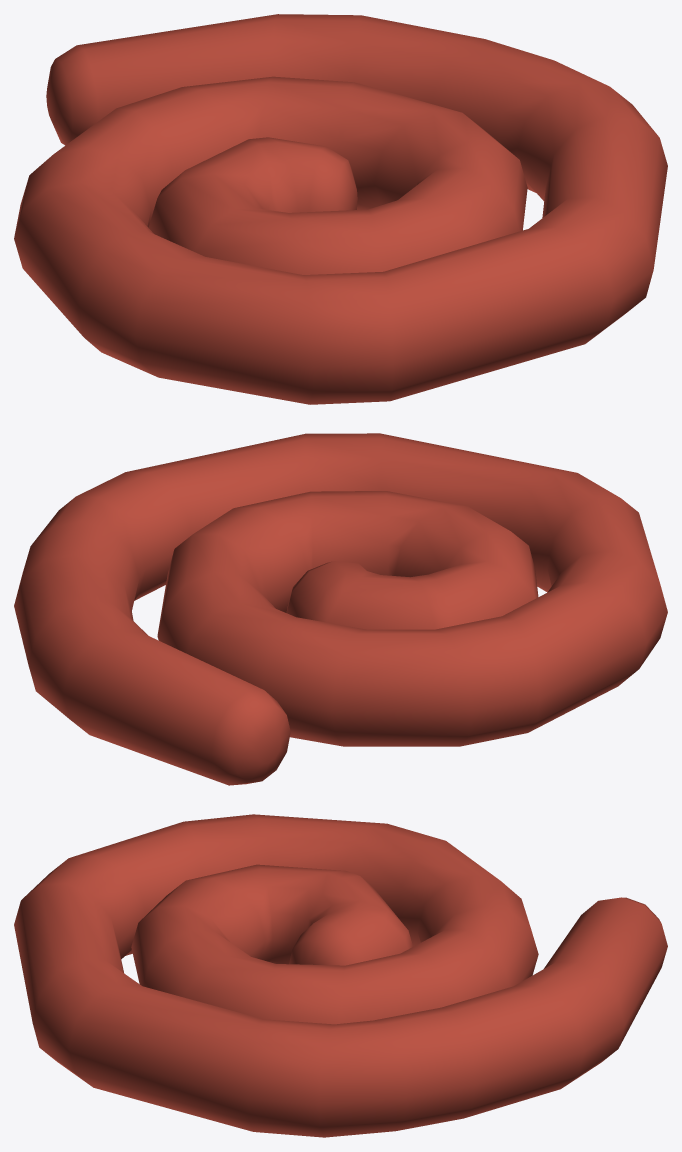
The model's file is Sausage_ring.001.fbx.
The picture shows the model from 3 angles, top to bottom: view 1: azimuth 30°, elevation 25°; view 2: azimuth 150°, elevation 25°; view 3: azimuth 270°, elevation 25°; orthographic projection. The views are drawn at different scales.
Visible parts, largest first — view 1: Sausage_ring.001; view 2: Sausage_ring.001; view 3: Sausage_ring.001.
Boxes of the visible parts, <box> form: Sausage_ring.001: <box>14,14,667,404</box>; Sausage_ring.001: <box>14,433,667,785</box>; Sausage_ring.001: <box>14,814,667,1137</box>.
Size of the model in its own units: 123 by 132 by 22.87.
